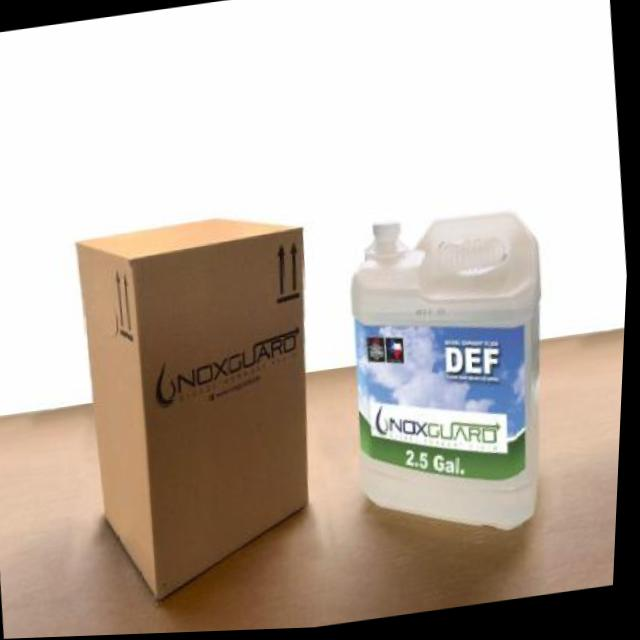box: (48, 172, 360, 620)
